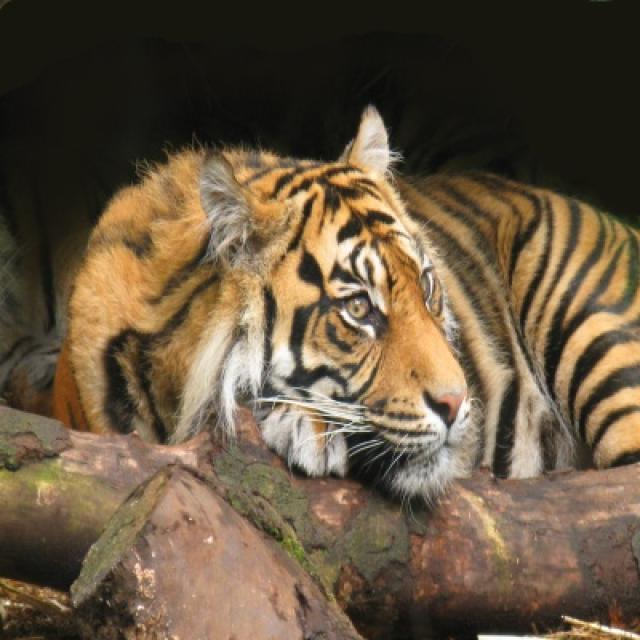Tiger: (49, 105, 638, 505)
